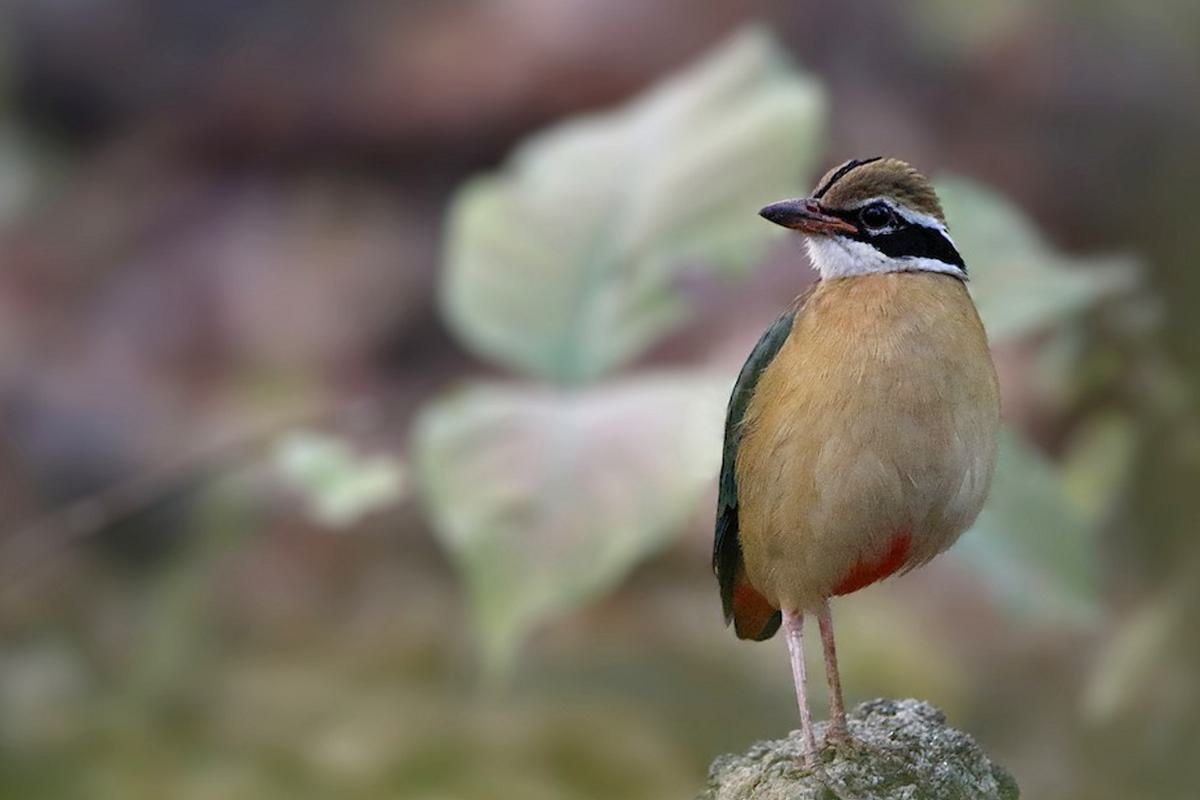pitta: (695, 127, 1029, 762)
